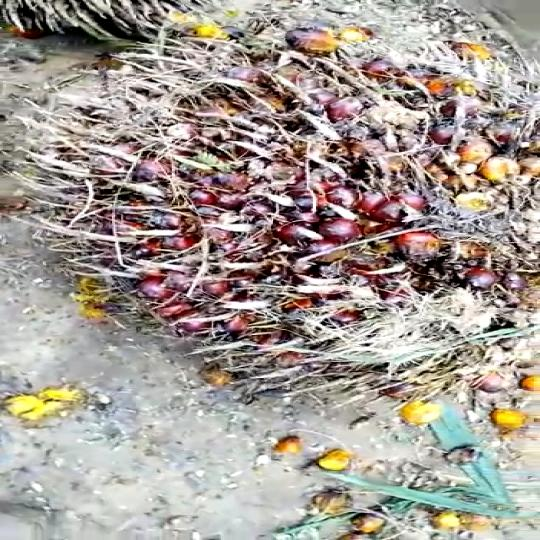masak: (19, 43, 540, 418)
